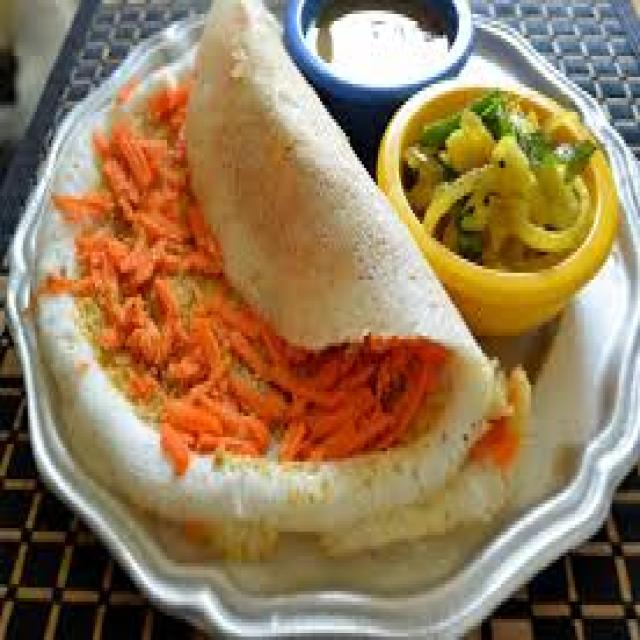DOSA: (30, 0, 526, 546)
